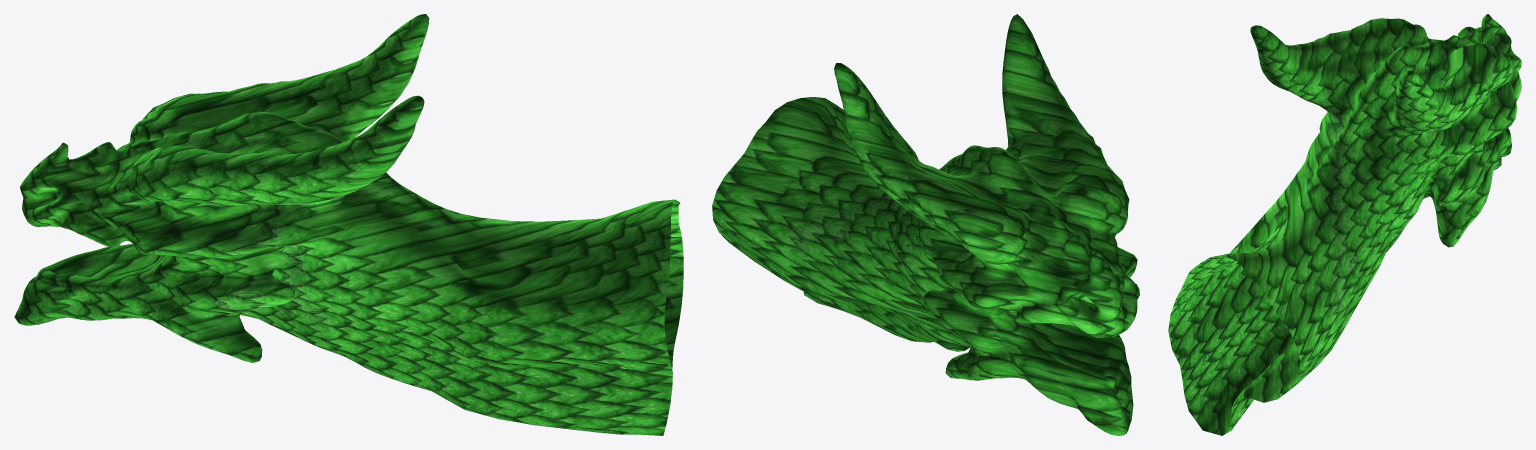
Rendered from Ca_DeD.obj.
The picture shows the model from 3 angles, left to right: view 1: azimuth 30°, elevation 25°; view 2: azimuth 150°, elevation 25°; view 3: azimuth 270°, elevation 25°; orthographic projection. The views are drawn at different scales.
Visible parts, largest first — view 1: CabezaDeD; view 2: CabezaDeD; view 3: CabezaDeD.
Boxes of the visible parts, x1,y1,x2,y2 form: CabezaDeD: (14, 14, 683, 435); CabezaDeD: (712, 14, 1139, 435); CabezaDeD: (1168, 14, 1521, 435).
Bounding box in the file's own units: 2.74 × 1.76 × 1.79.
1 material, 1 textured.
